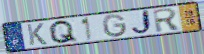1: (80, 16, 93, 42)
G: (101, 14, 129, 39)
J: (130, 9, 154, 36)
K: (25, 22, 49, 47)
Q: (47, 19, 79, 45)
R: (152, 7, 183, 34)
